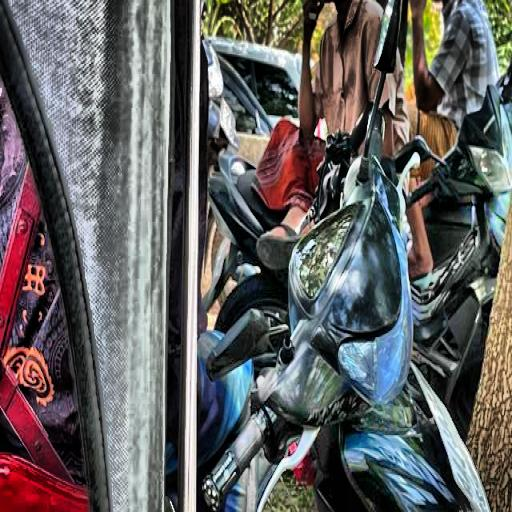Rokok: (412, 0, 446, 110)
